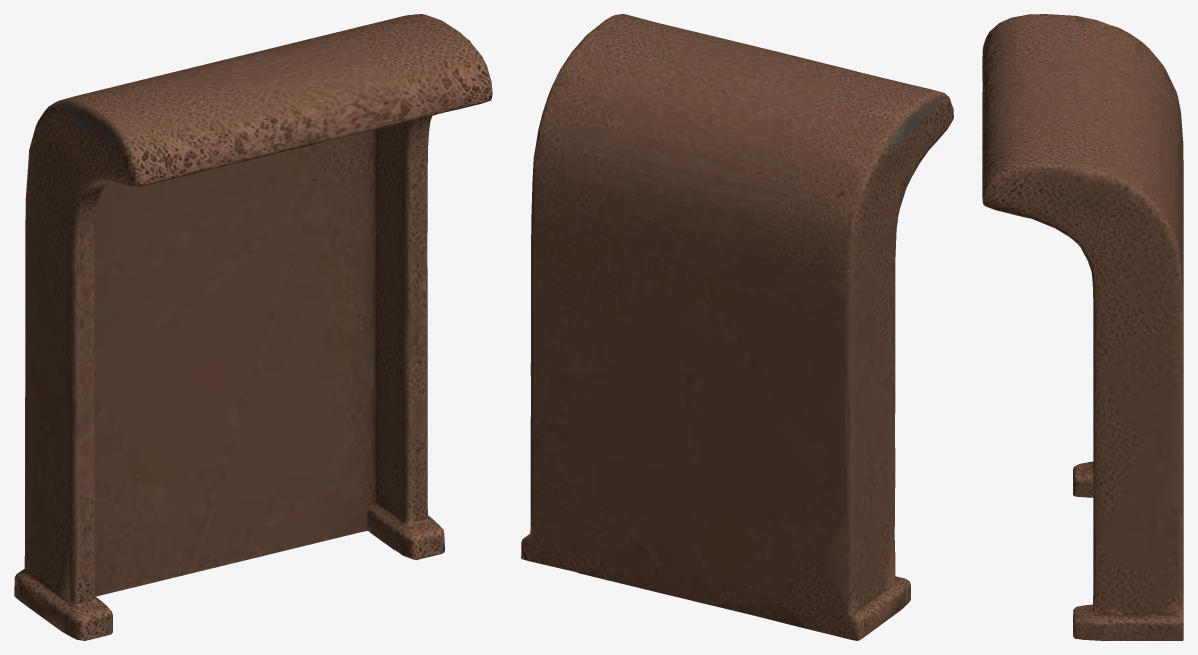
Rendered from booth_prop.glb.
3 renders of one model, left to right at view 1: azimuth 30°, elevation 25°; view 2: azimuth 150°, elevation 25°; view 3: azimuth 270°, elevation 25°, orthographic. The views are drawn at different scales.
Parts seen in each view (by area): view 1: Mesh_0; view 2: Mesh_0; view 3: Mesh_0.
Part boxes in pixels (<box>): Mesh_0: <box>14,14,492,640</box>; Mesh_0: <box>521,14,953,640</box>; Mesh_0: <box>982,14,1183,640</box>.
Size of the model in its own units: 1.38 by 1.9 by 0.7346.
Materials: 1 (1 with a texture image).
